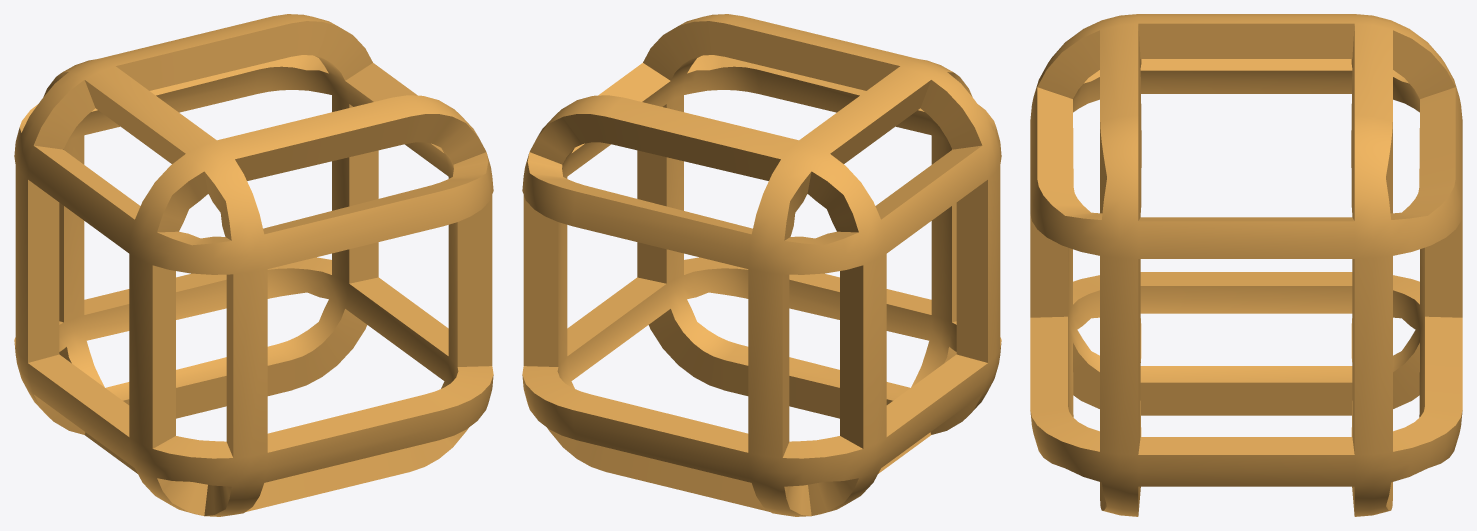
Rendered from RoundCubeMesh_01.fbx.
3 views of the same model, side by side, from view 1: azimuth 30°, elevation 25°; view 2: azimuth 150°, elevation 25°; view 3: azimuth 270°, elevation 25° (orthographic). The views are drawn at different scales.
Parts seen in each view (by area): view 1: RoundCubeMesh_01; view 2: RoundCubeMesh_01; view 3: RoundCubeMesh_01.
Boxes of the visible parts, bbox=[...] form: RoundCubeMesh_01: bbox=[14, 14, 493, 516]; RoundCubeMesh_01: bbox=[522, 14, 1001, 516]; RoundCubeMesh_01: bbox=[1030, 14, 1462, 516].
Size of the model in its own units: 286 by 286 by 286.
